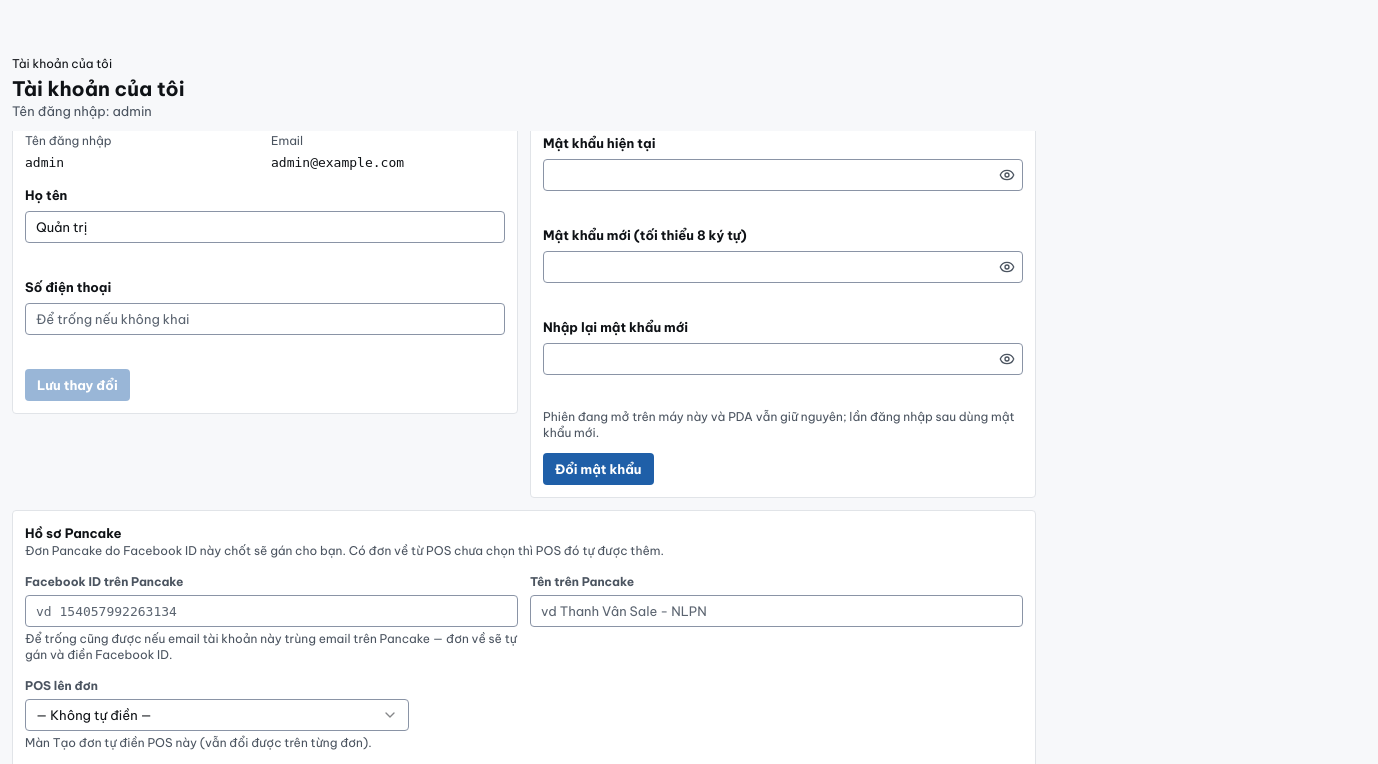
Test: MeScreen — hồ sơ + mật khẩu › sửa họ tên + số điện thoại → PATCH /me/profile
Expected: the text "admin@example.com" is shown, [271,155,404,170]
Replace the text in the field labelled "Họ tên" with "Nguyễn Văn A" at (265, 227), box [25,211,505,243]
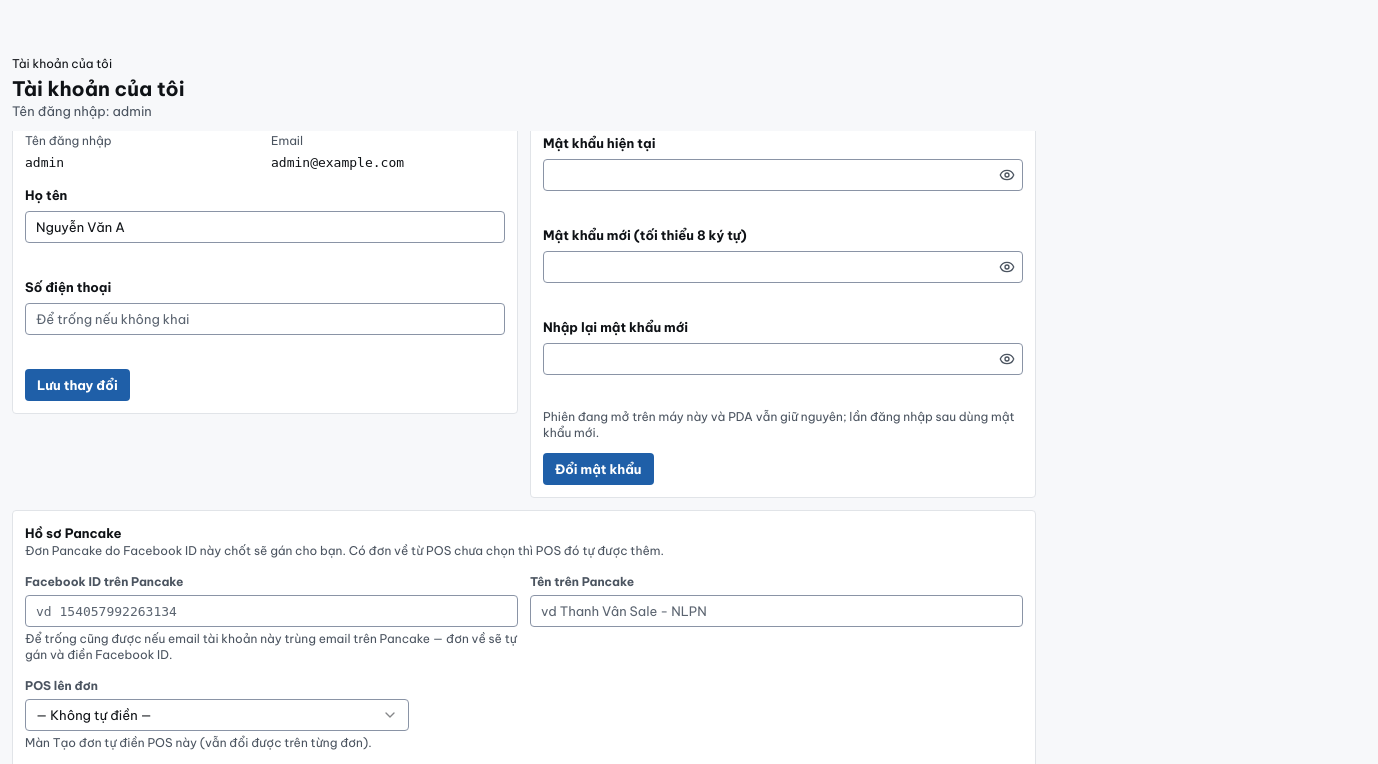
Type "0394 429 147" into the field labelled "Số điện thoại" at (265, 319), box [25,303,505,335]
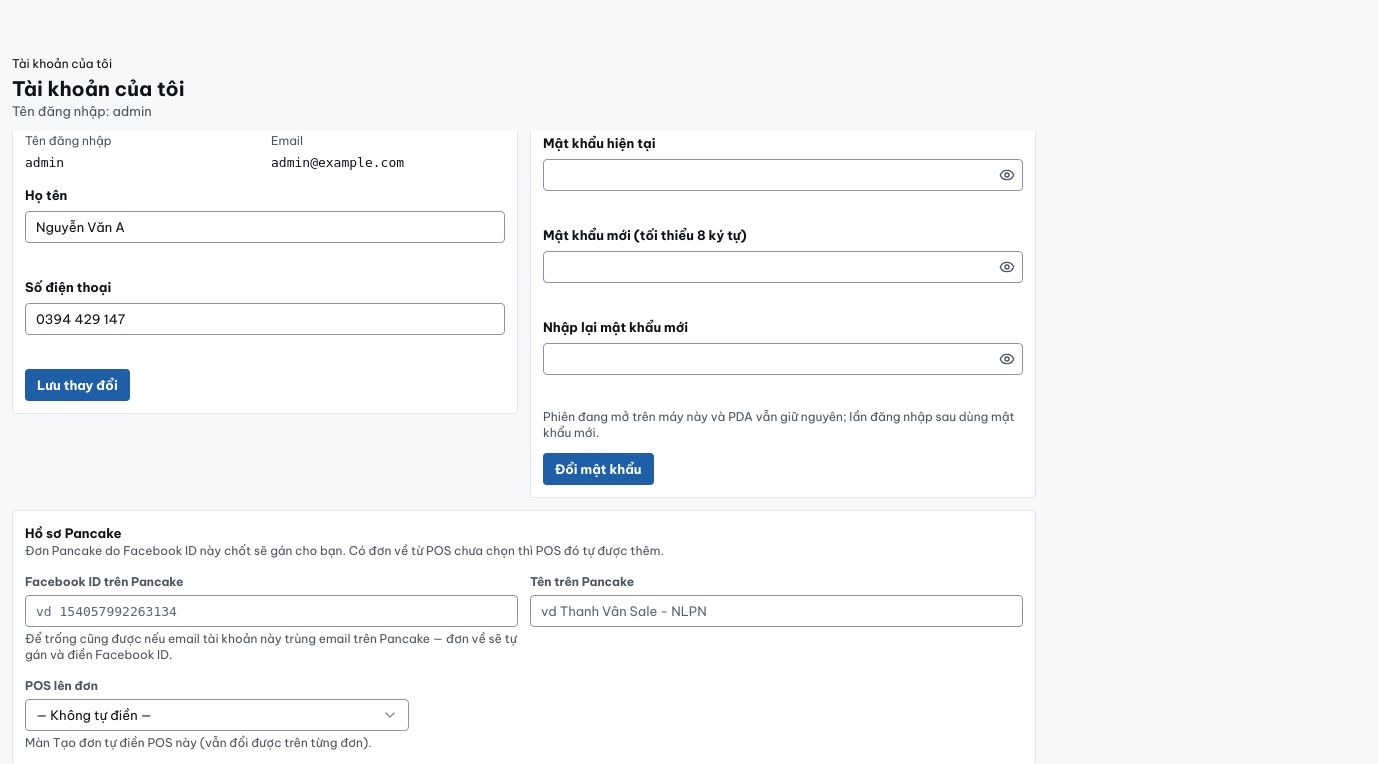
Click the button "Lưu thay đổi" at (77, 385), box [25,369,130,401]
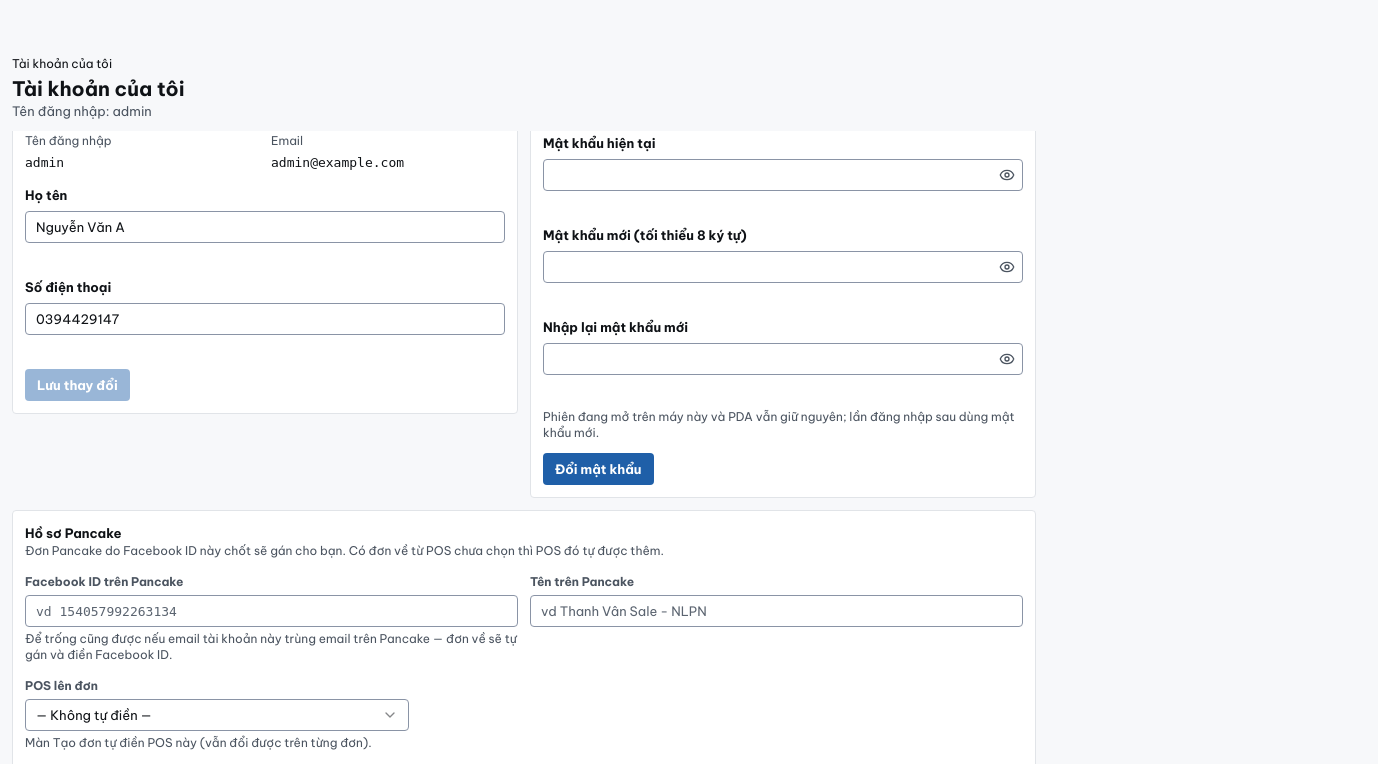
Now the field labelled "Số điện thoại" holds "0394429147", box [25,303,505,335]
